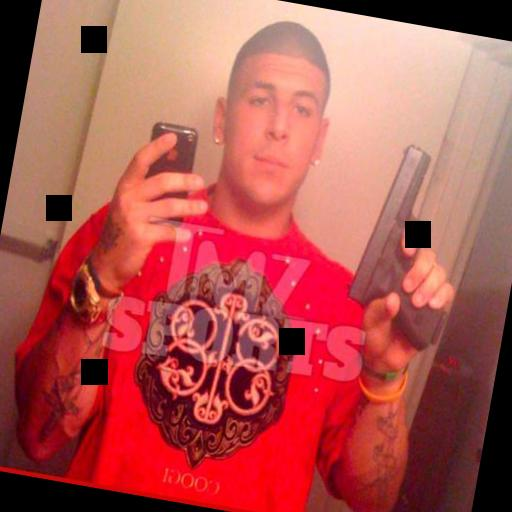Handgun: (328, 126, 478, 360)
